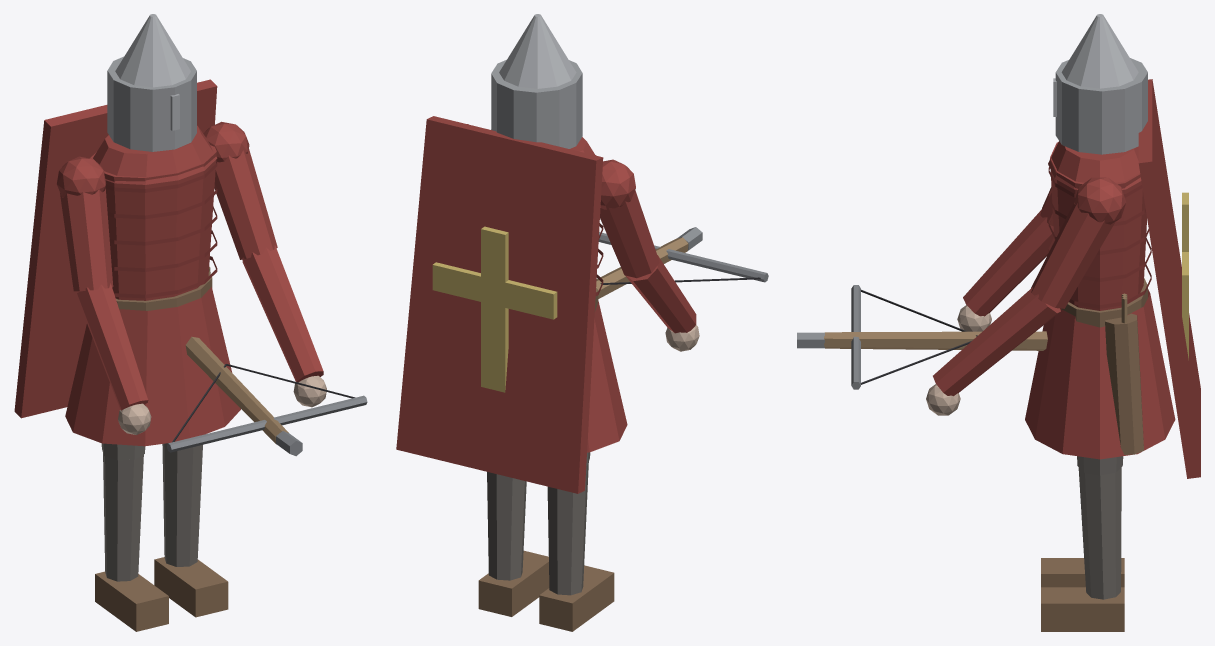
The model's file is crossbowman_enemy.glb.
3 renders of one model, left to right at view 1: azimuth 30°, elevation 25°; view 2: azimuth 150°, elevation 25°; view 3: azimuth 270°, elevation 25°, orthographic. The views are drawn at different scales.
Visible parts, largest first — view 1: body, arm_r, arm_l, leg_r, leg_l; view 2: body, arm_r, leg_r, leg_l; view 3: body, arm_l, arm_r, leg_l, leg_r.
Part boxes in pixels (x1,y1,x2,y2): body: (14, 14, 240, 446); arm_r: (57, 156, 367, 456); arm_l: (203, 121, 326, 407); leg_r: (95, 443, 168, 631); leg_l: (154, 443, 228, 617); body: (396, 14, 627, 493); arm_r: (596, 159, 768, 351); leg_r: (539, 452, 614, 631); leg_l: (478, 472, 549, 616); body: (1025, 14, 1200, 478); arm_l: (926, 177, 1126, 415); arm_r: (797, 187, 1054, 389); leg_l: (1041, 456, 1124, 631); leg_r: (1041, 558, 1124, 587).
Size of the model in its own units: 0.676 by 1.88 by 1.16.
